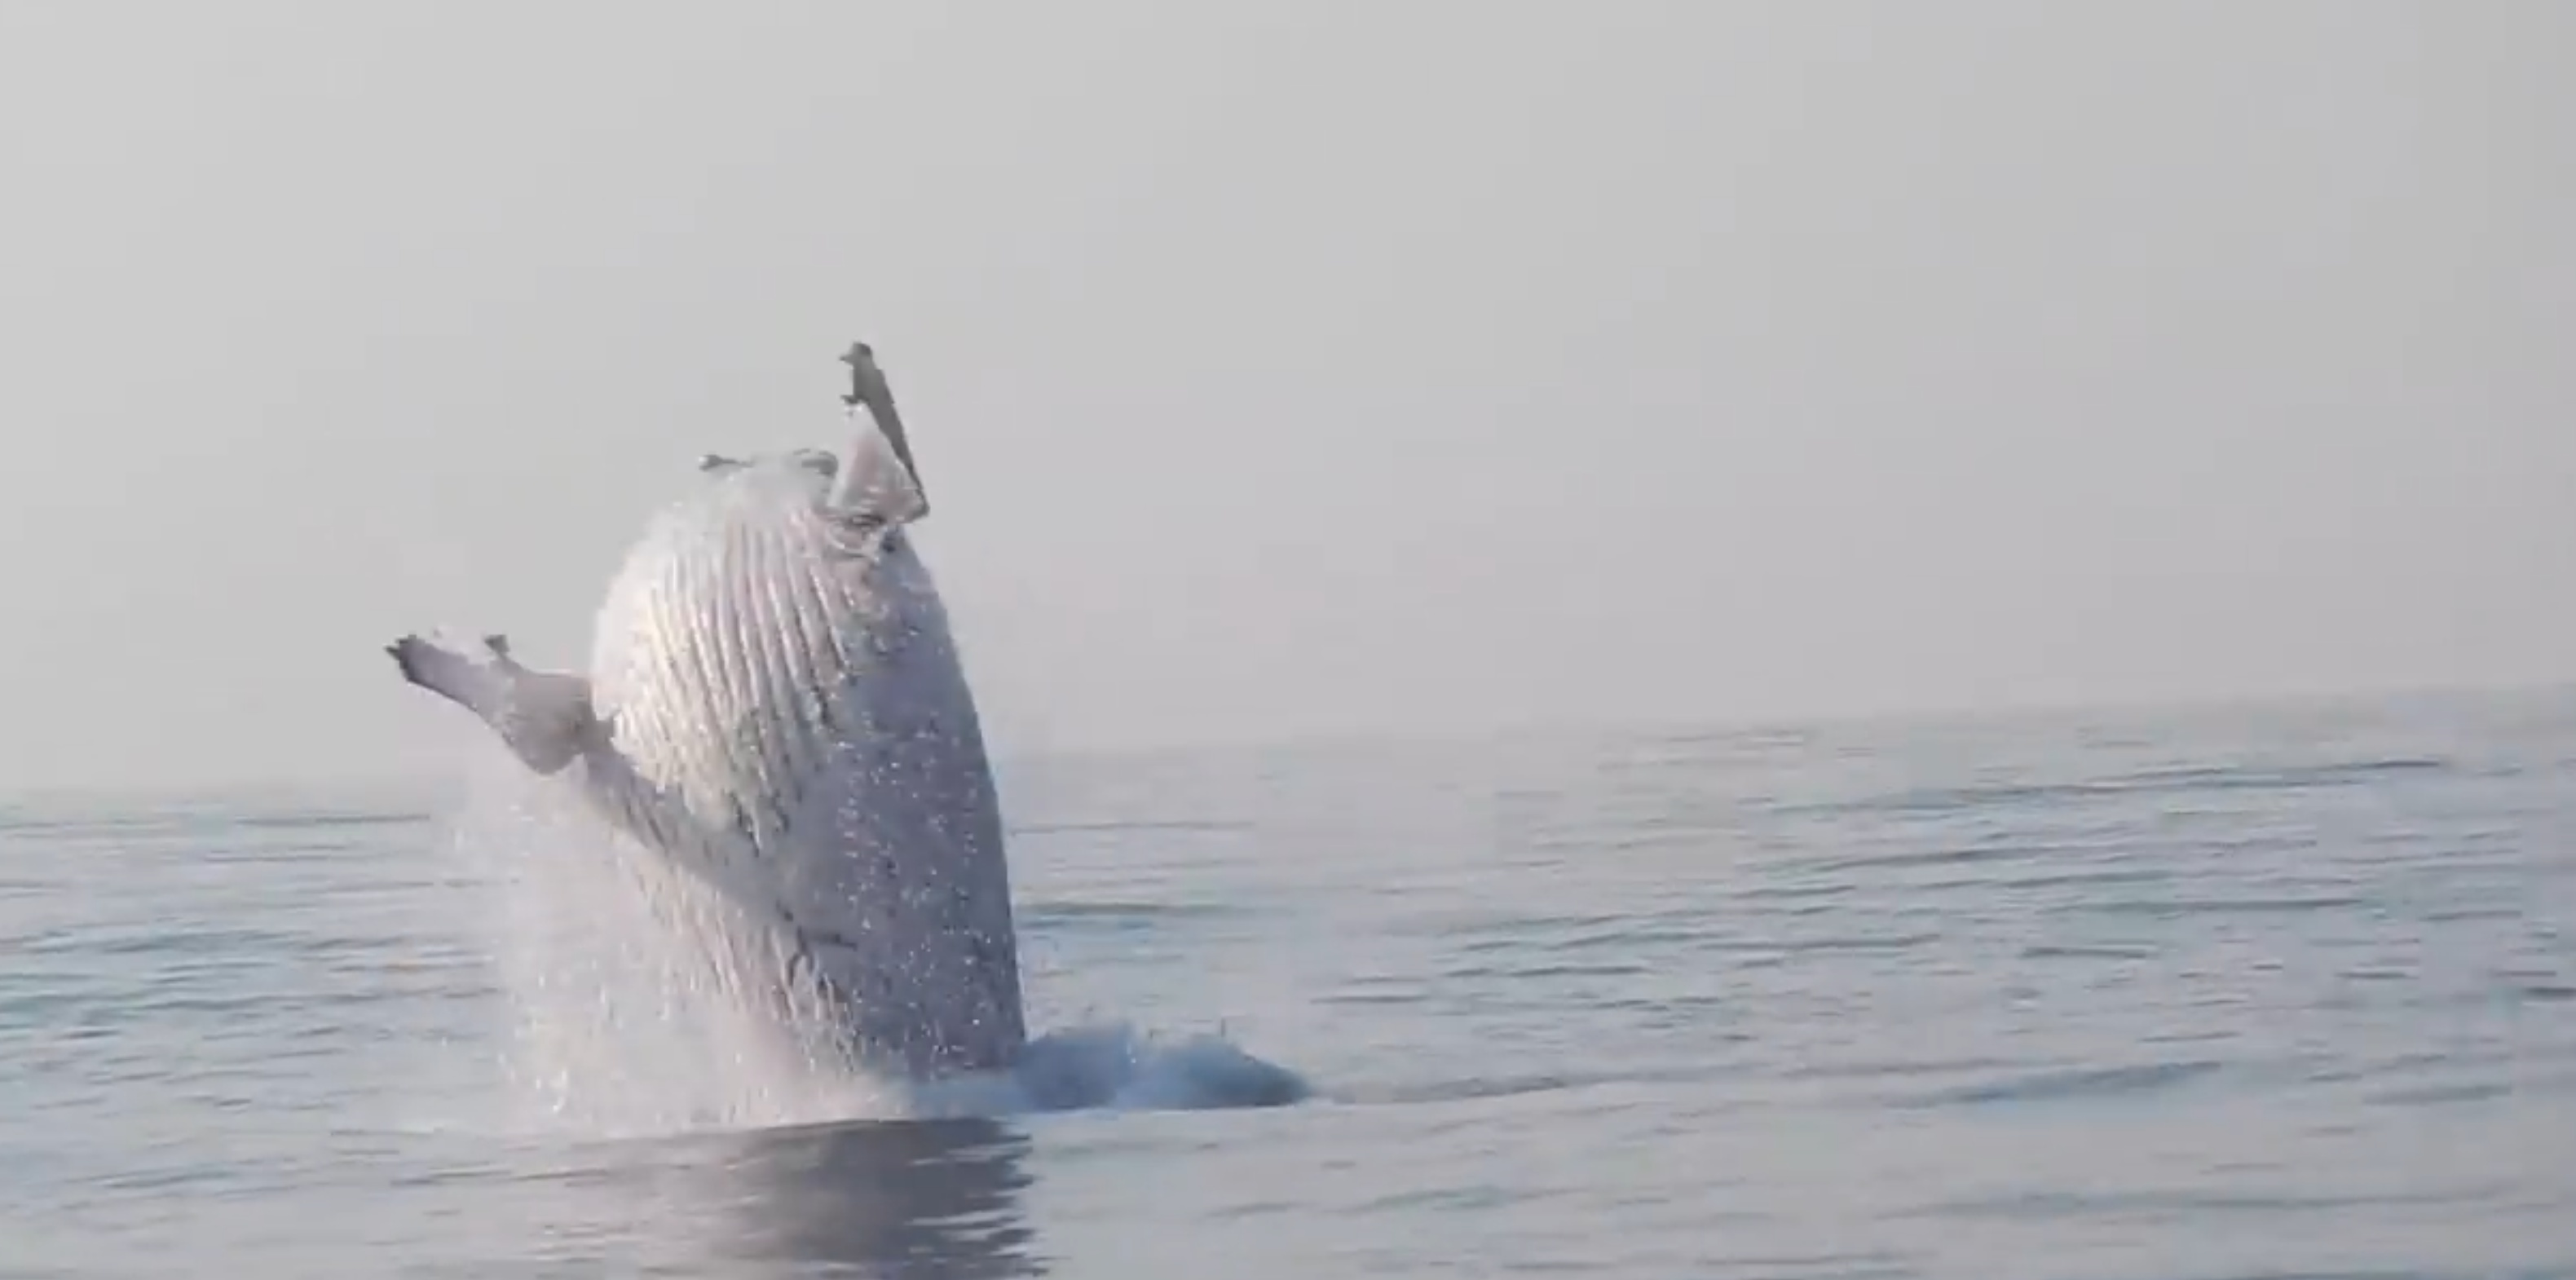humpback: (563, 444, 1033, 1111)
